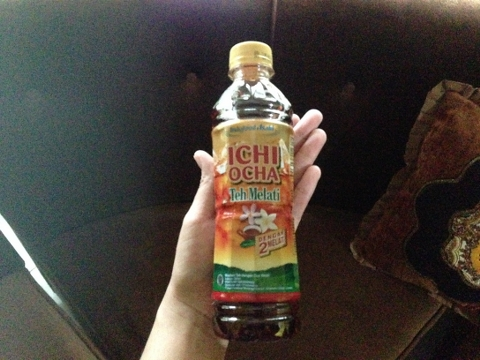tempat minum: (211, 40, 300, 341)
